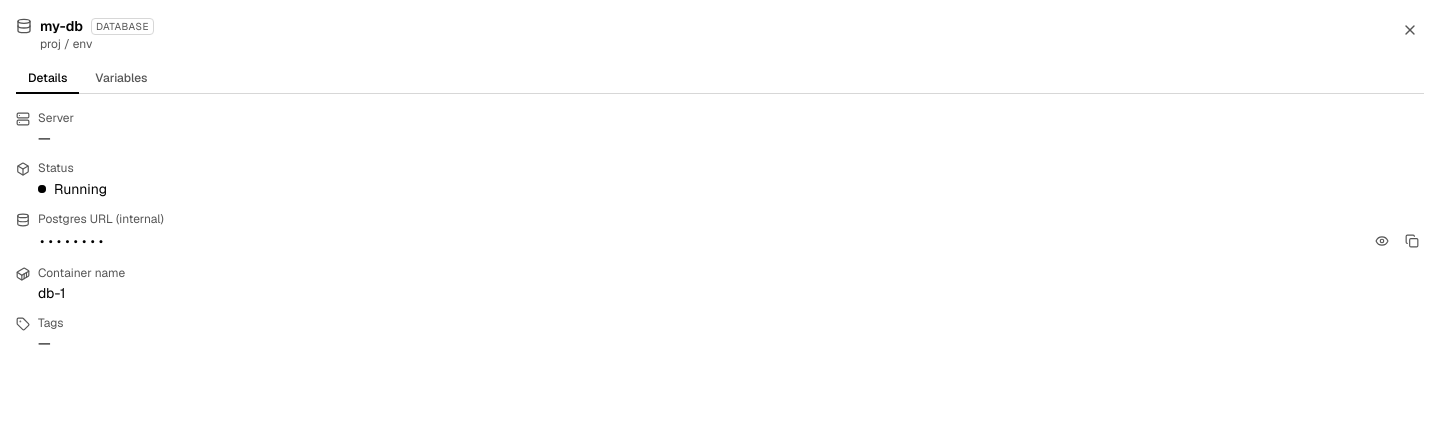
DatabaseCopyMenu gating in the resource drawer › closes the menu when a mousedown lands outside the menu wrapper
Click the button named "copy connection url" at point(1412, 241), box [1400, 229, 1424, 253]
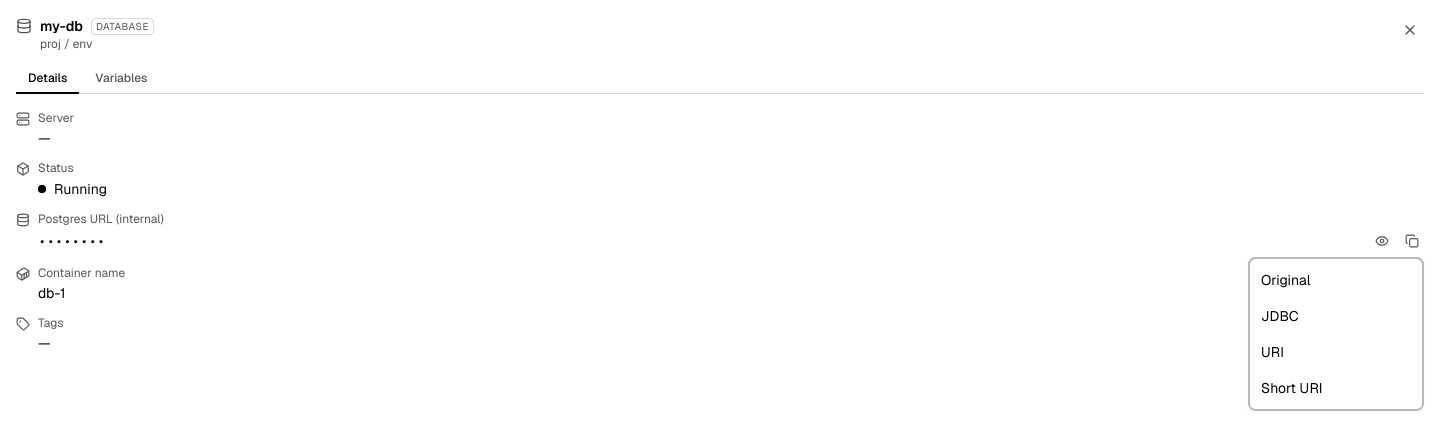
expect the menu item "JDBC" is shown: met, box [1249, 298, 1423, 334]
Press the mouse on the element that starts with "my-db" at point(720, 184), box [0, 0, 1439, 369]
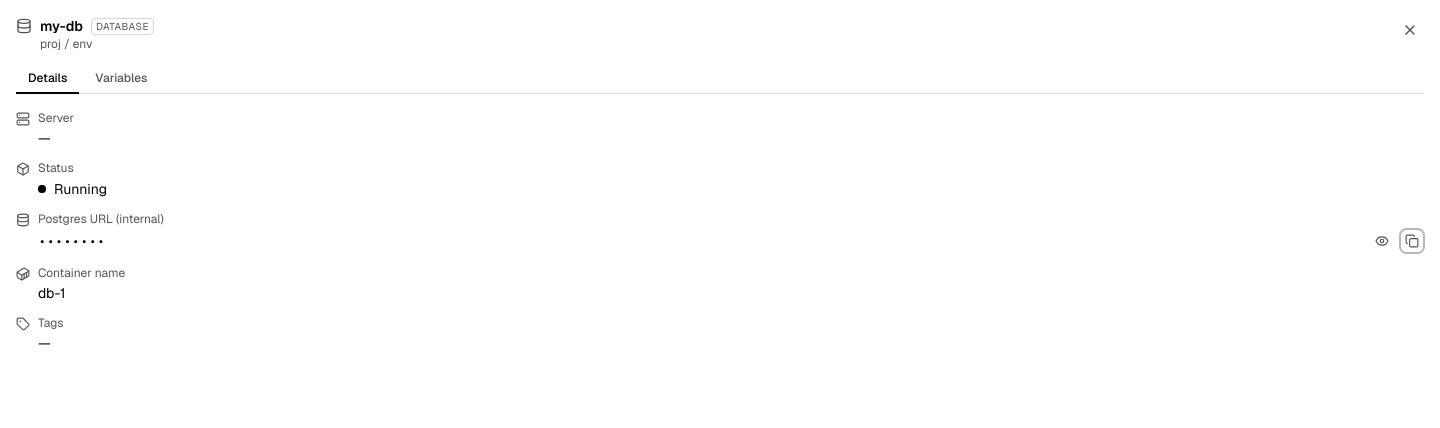
expect the menu item "JDBC" is gone: met
